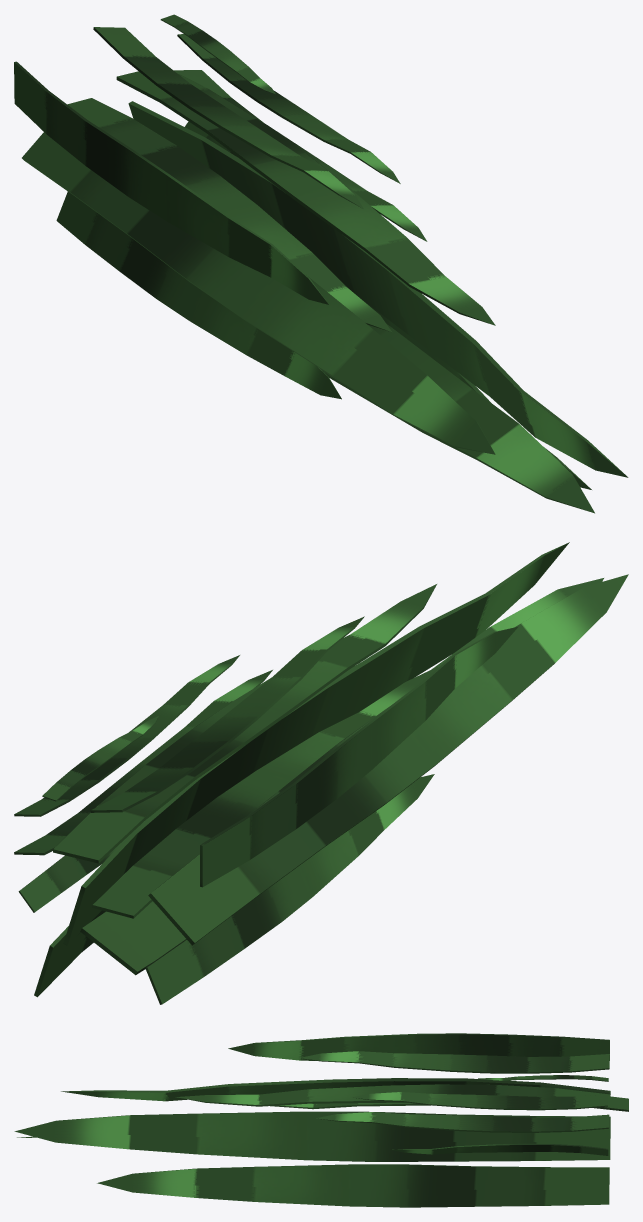
The model's file is grassSeparatedActual.fbx.
3 views of the same model, one above another, from view 1: azimuth 30°, elevation 25°; view 2: azimuth 150°, elevation 25°; view 3: azimuth 270°, elevation 25° (orthographic). The views are drawn at different scales.
Visible parts, largest first — view 1: Cube.004, Cube.010, Cube.006, Cube.003, Cube.002, Cube.009, Cube.012, Cube.007, Cube.011, Cube.005, Cube.013, Cube.001; view 2: Cube.004, Cube.010, Cube.006, Cube.003, Cube.002, Cube.009, Cube.007, Cube.012, Cube.011, Cube.005, Cube.008, Cube.013 (+1 smaller); view 3: Cube.010, Cube.001, Cube.006, Cube.007, Cube.003, Cube.004, Cube.005, Cube.011, Cube.008, Cube.009, Cube.013.
Boxes of the visible parts, left/top/right/bottom form: Cube.004: left=22, top=132, right=495, bottom=454; Cube.010: left=128, top=101, right=628, bottom=477; Cube.006: left=14, top=61, right=328, bottom=304; Cube.003: left=116, top=71, right=495, bottom=325; Cube.002: left=56, top=191, right=341, bottom=399; Cube.009: left=67, top=98, right=391, bottom=332; Cube.012: left=321, top=324, right=594, bottom=513; Cube.007: left=93, top=27, right=363, bottom=208; Cube.011: left=177, top=34, right=400, bottom=183; Cube.005: left=174, top=70, right=427, bottom=241; Cube.013: left=160, top=14, right=275, bottom=93; Cube.001: left=360, top=298, right=591, bottom=489; Cube.004: left=148, top=574, right=628, bottom=945; Cube.010: left=63, top=542, right=569, bottom=945; Cube.006: left=200, top=626, right=518, bottom=887; Cube.003: left=53, top=584, right=436, bottom=863; Cube.002: left=145, top=774, right=434, bottom=1004; Cube.009: left=92, top=666, right=437, bottom=918; Cube.007: left=90, top=616, right=364, bottom=812; Cube.012: left=80, top=578, right=603, bottom=975; Cube.011: left=14, top=655, right=239, bottom=816; Cube.005: left=14, top=670, right=272, bottom=855; Cube.008: left=18, top=821, right=144, bottom=912; Cube.013: left=42, top=716, right=158, bottom=801; Cube.010: left=14, top=1111, right=610, bottom=1161; Cube.001: left=97, top=1164, right=609, bottom=1207; Cube.006: left=228, top=1033, right=609, bottom=1060; Cube.007: left=299, top=1051, right=609, bottom=1073; Cube.003: left=175, top=1084, right=609, bottom=1109; Cube.004: left=61, top=1078, right=610, bottom=1101; Cube.005: left=316, top=1112, right=609, bottom=1132; Cube.011: left=352, top=1092, right=607, bottom=1110; Cube.008: left=391, top=1143, right=608, bottom=1155; Cube.009: left=270, top=1096, right=628, bottom=1111; Cube.013: left=478, top=1075, right=608, bottom=1081.
Size of the model in its own units: 45.4 by 46.24 by 199.
